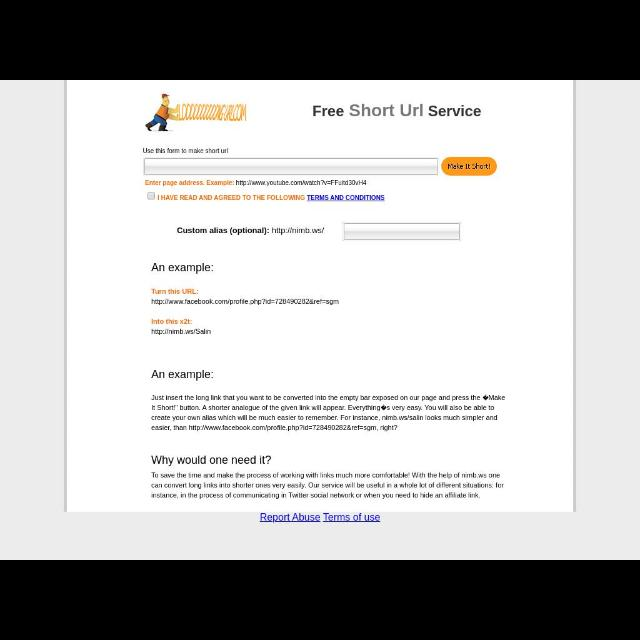checkbox: (146, 188, 158, 202)
image: (144, 90, 252, 134)
input: (144, 160, 440, 173), (344, 224, 458, 238)
link: (258, 512, 382, 522), (308, 190, 388, 203)
text: (150, 390, 502, 430), (151, 473, 507, 501), (308, 91, 494, 127), (149, 286, 341, 308), (152, 453, 272, 471), (176, 225, 328, 237), (144, 178, 368, 186), (158, 192, 306, 202), (150, 362, 216, 383), (150, 318, 218, 337), (142, 146, 230, 156), (150, 264, 216, 274), (450, 162, 490, 172)
textbutton: (442, 157, 496, 175)
